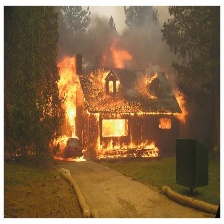fire: (47, 57, 190, 162)
smoke: (59, 9, 194, 53)
